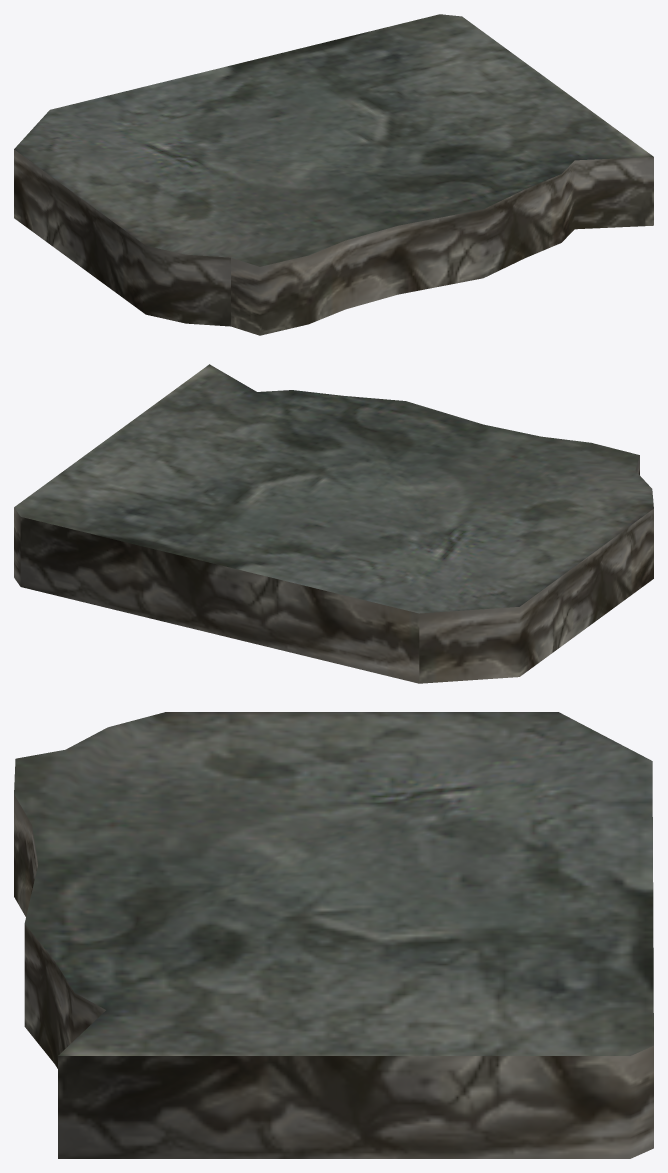
Rendered from Z_dizhuan003.fbx.
3 renders of one model, top to bottom at view 1: azimuth 30°, elevation 25°; view 2: azimuth 150°, elevation 25°; view 3: azimuth 270°, elevation 25°, orthographic. The views are drawn at different scales.
Visible parts, largest first — view 1: Z_dizhuan003; view 2: Z_dizhuan003; view 3: Z_dizhuan003.
Boxes of the visible parts, x1=… form: Z_dizhuan003: x1=14, y1=14, x2=653, y2=335; Z_dizhuan003: x1=14, y1=364, x2=653, y2=683; Z_dizhuan003: x1=14, y1=712, x2=653, y2=1158.
Bounding box in the file's own units: 142 × 19.8 × 112.
